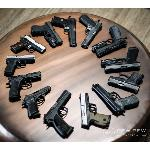Pistol: (82, 78, 138, 124), (94, 45, 148, 75), (78, 84, 106, 136), (93, 24, 131, 60), (4, 30, 52, 57), (16, 83, 50, 119), (48, 81, 70, 133), (31, 20, 64, 54), (6, 72, 44, 100), (51, 12, 79, 50), (78, 10, 104, 50), (106, 73, 148, 97), (0, 53, 36, 78)
